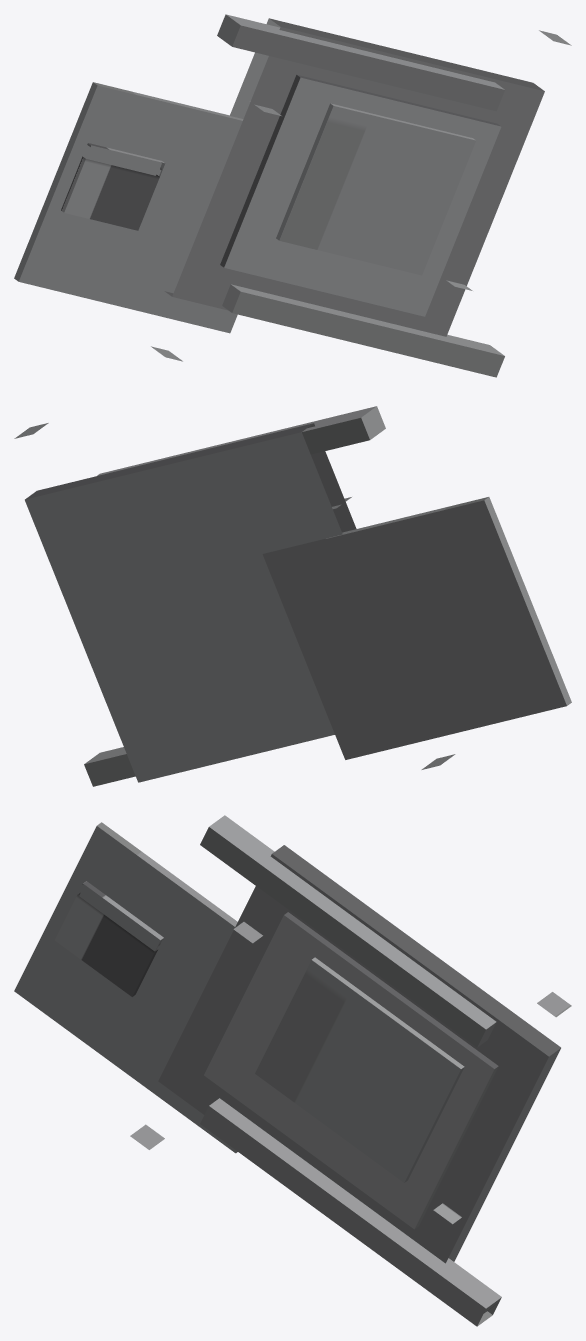
3 views of the same model, one above another, from view 1: azimuth 30°, elevation 25°; view 2: azimuth 150°, elevation 25°; view 3: azimuth 330°, elevation 25° (orthographic). The views are drawn at different scales.
Bounding box in the file's own units: 0.7797 × 0.5772 × 0.0574.
